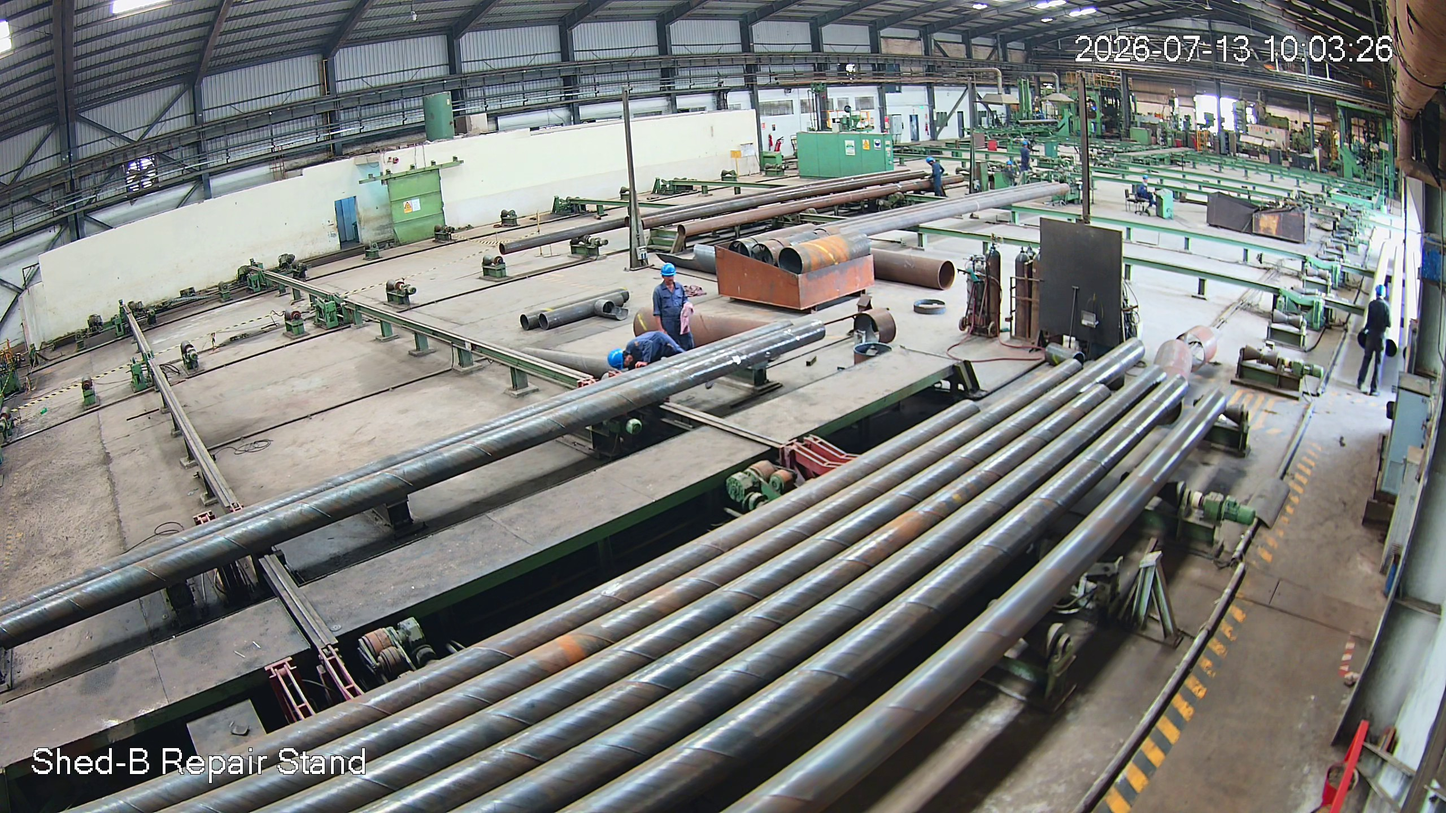Helmet: (605, 343, 636, 371), (658, 261, 686, 289), (1372, 283, 1390, 305)
Person: (1355, 286, 1393, 397), (653, 263, 697, 348), (608, 333, 700, 372)
